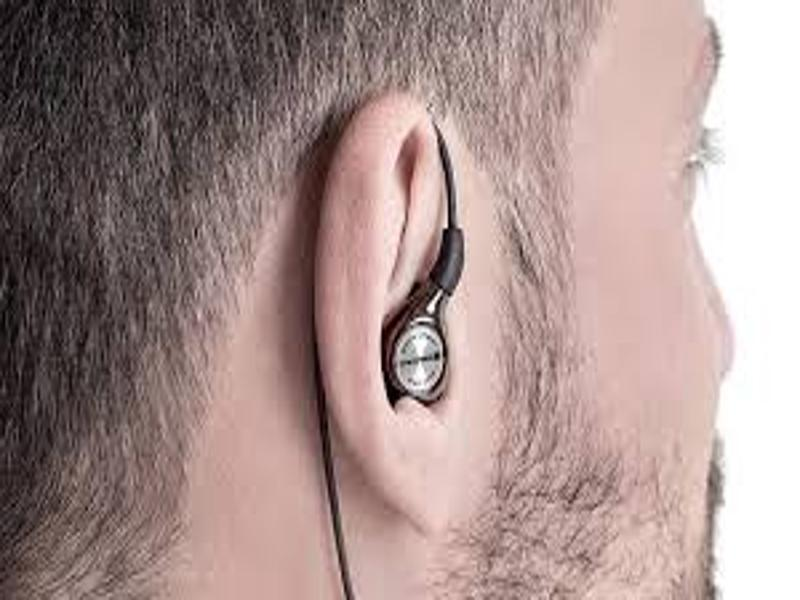headphone: (385, 227, 469, 400)
